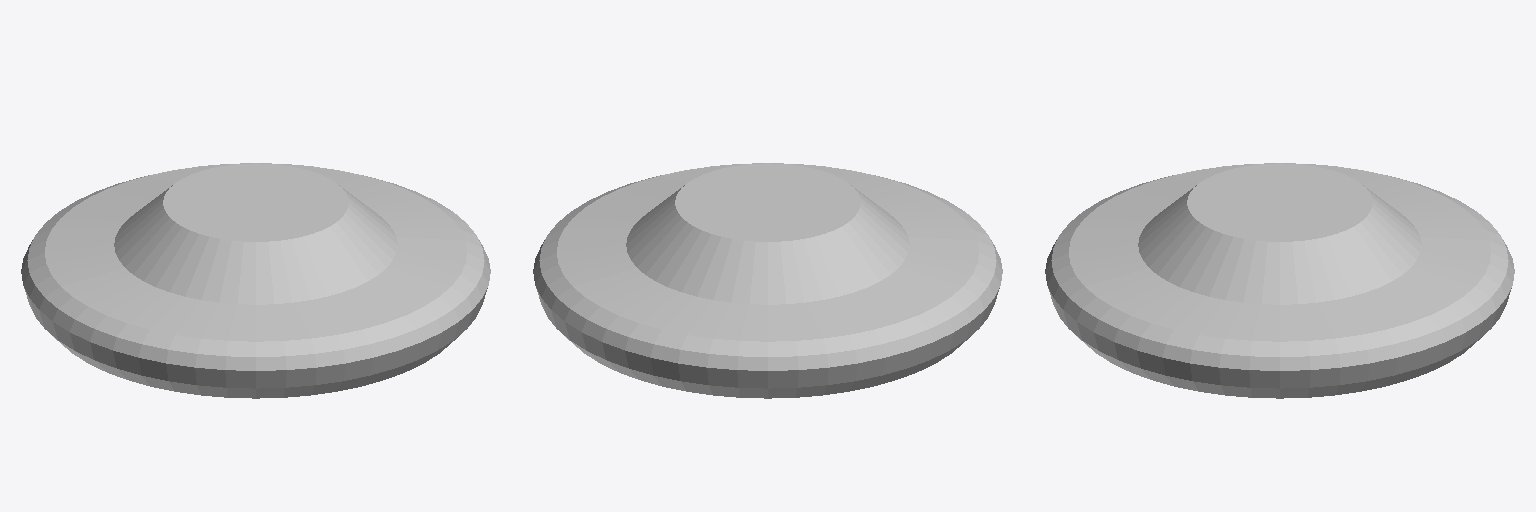
The model's file is Hat.obj.
3 views of the same model, side by side, from view 1: azimuth 30°, elevation 25°; view 2: azimuth 150°, elevation 25°; view 3: azimuth 270°, elevation 25° (orthographic).
Visible parts, largest first — view 1: Torus; view 2: Torus; view 3: Torus.
Boxes of the visible parts, x1=… form: Torus: x1=21, y1=163, x2=490, y2=398; Torus: x1=533, y1=163, x2=1002, y2=398; Torus: x1=1045, y1=163, x2=1514, y2=398.
Size of the model in its own units: 1.59 by 0.3972 by 1.59.